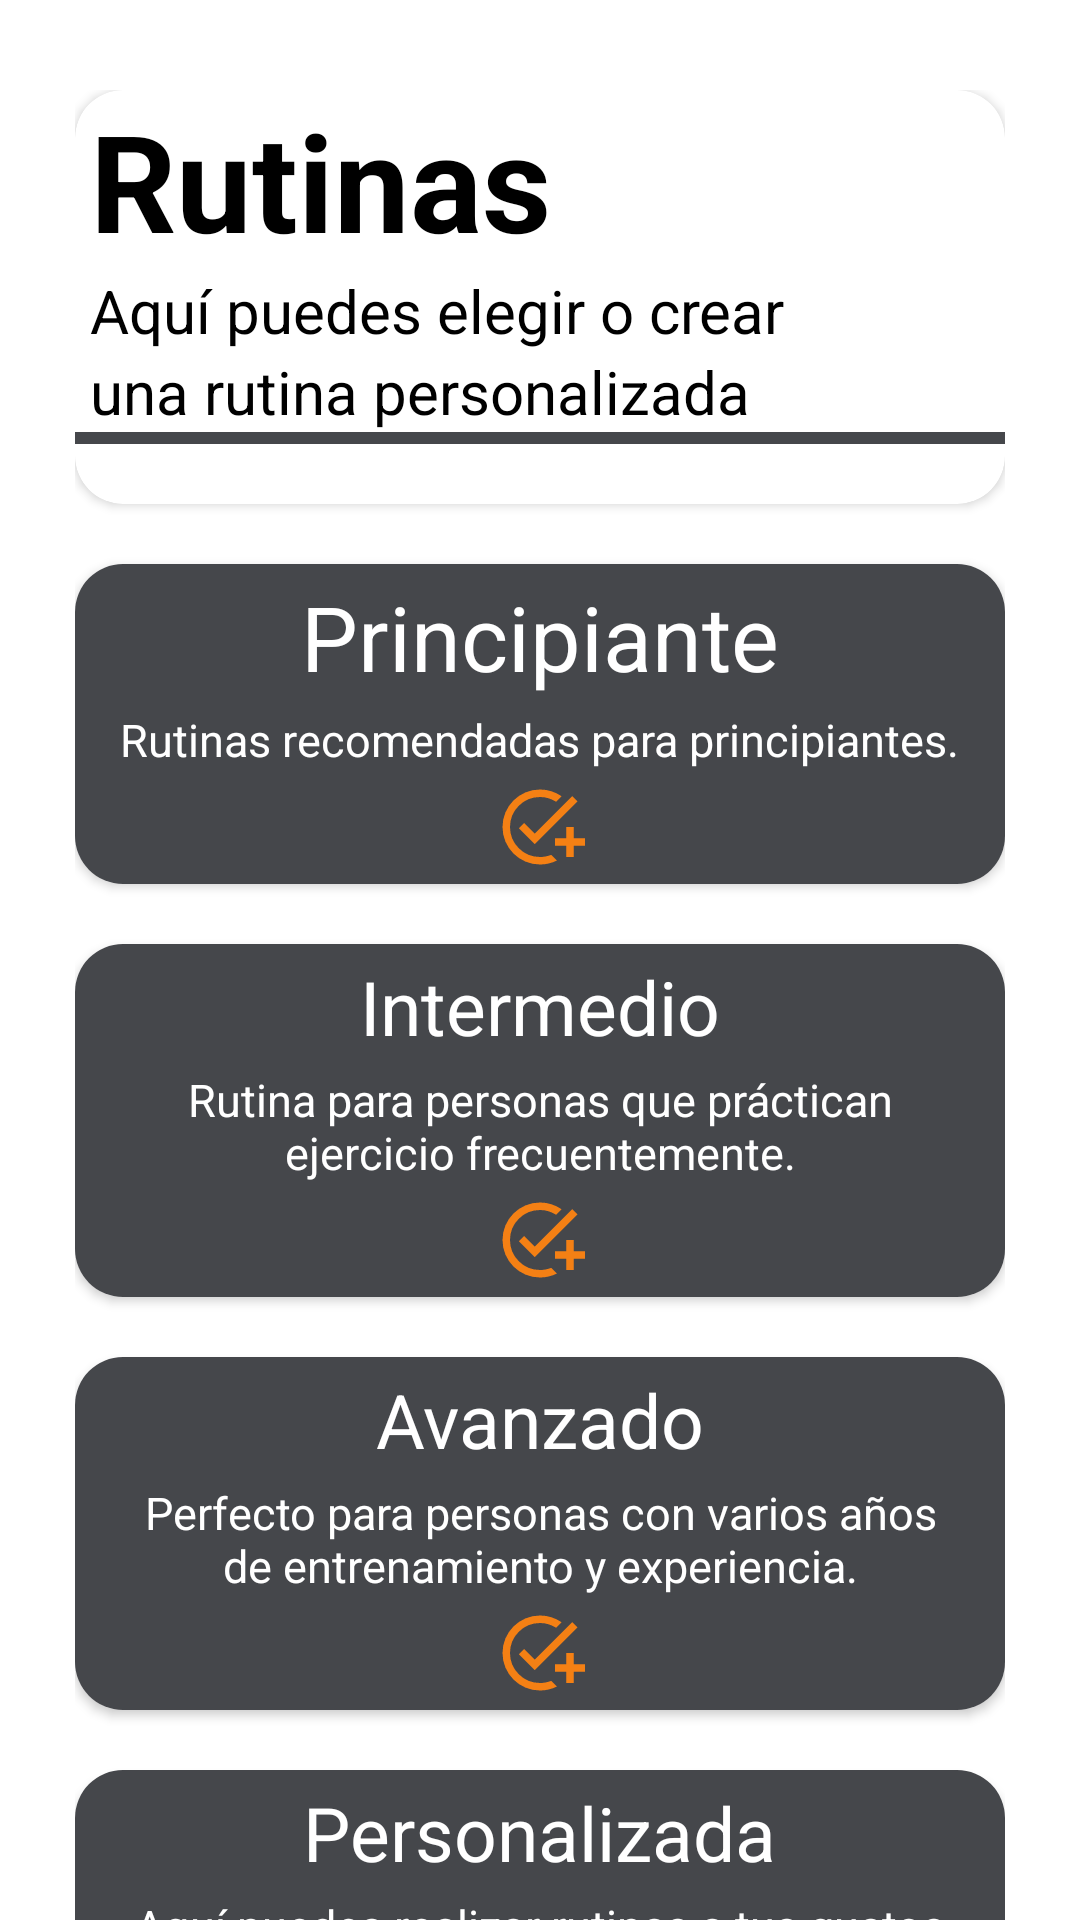

Screen size 1080 x 1920. Icon name, then its center in pixels as (x,y):
add: (543,827), (543,1240), (543,1653)
